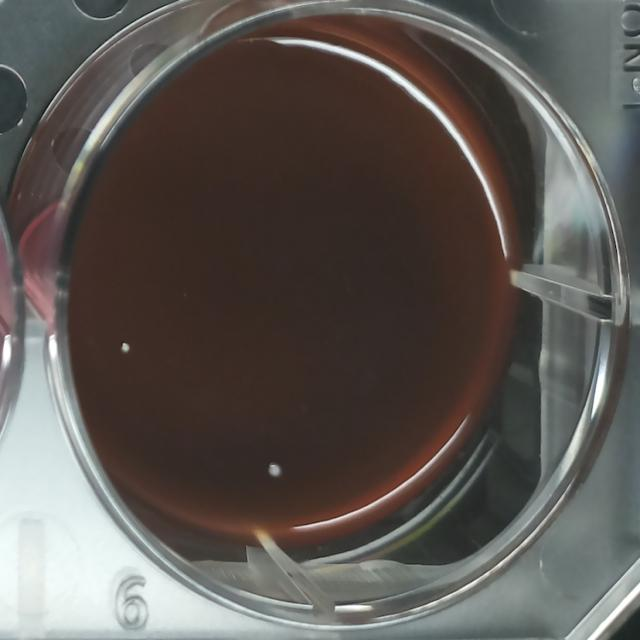Staphylococcus: (262, 456, 286, 484), (116, 335, 136, 360)
